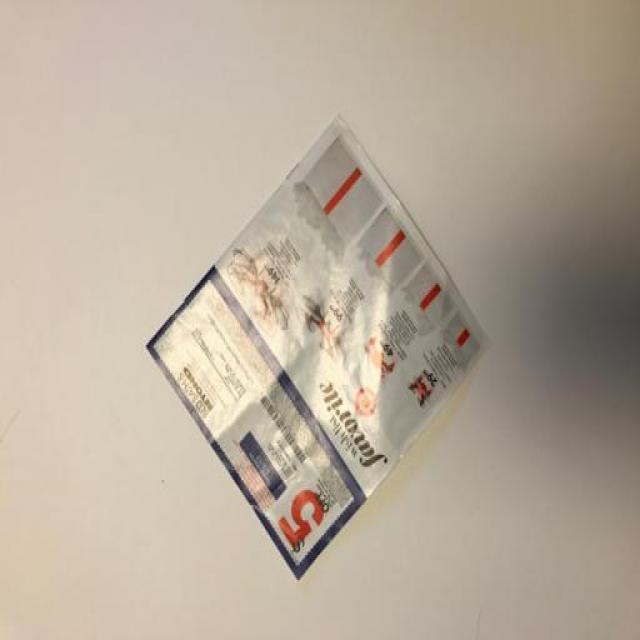paper: (138, 102, 527, 595)
